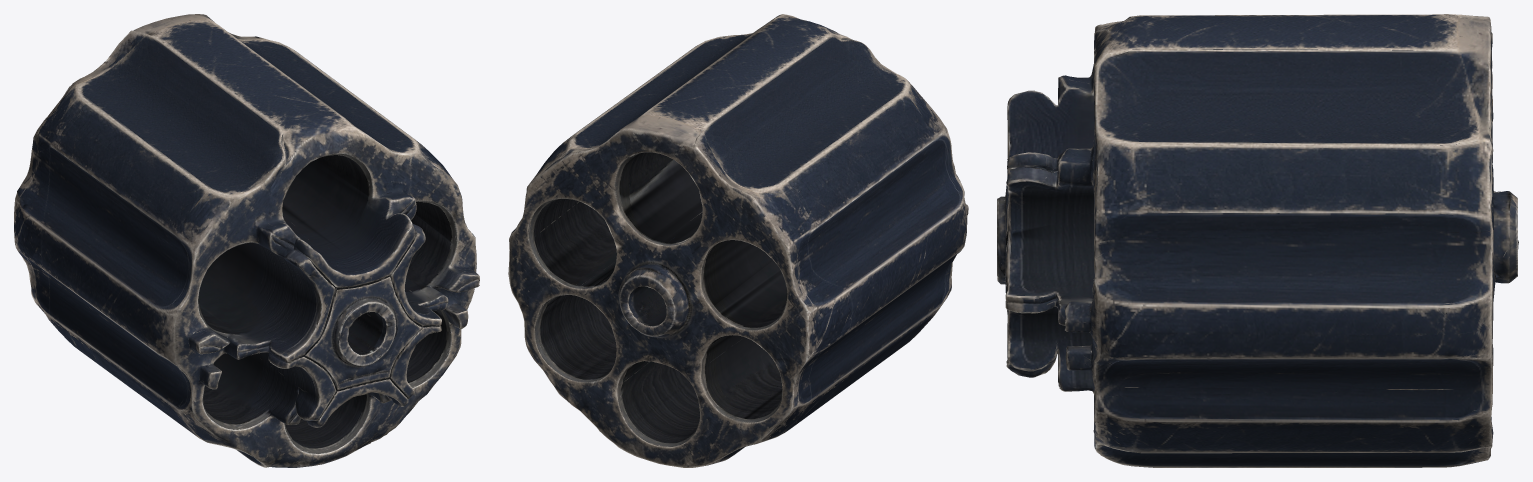
3 views of the same model, side by side, from view 1: azimuth 30°, elevation 25°; view 2: azimuth 150°, elevation 25°; view 3: azimuth 270°, elevation 25° (orthographic). The views are drawn at different scales.
Parts seen in each view (by area): view 1: Mesh_0; view 2: Mesh_0; view 3: Mesh_0.
Boxes of the visible parts, x1=… form: Mesh_0: x1=14, y1=14, x2=479, y2=467; Mesh_0: x1=508, y1=14, x2=968, y2=467; Mesh_0: x1=997, y1=14, x2=1518, y2=467.
Size of the model in its own units: 0.0471 by 0.0485 by 0.054.
Materials: 1 (1 with a texture image).
